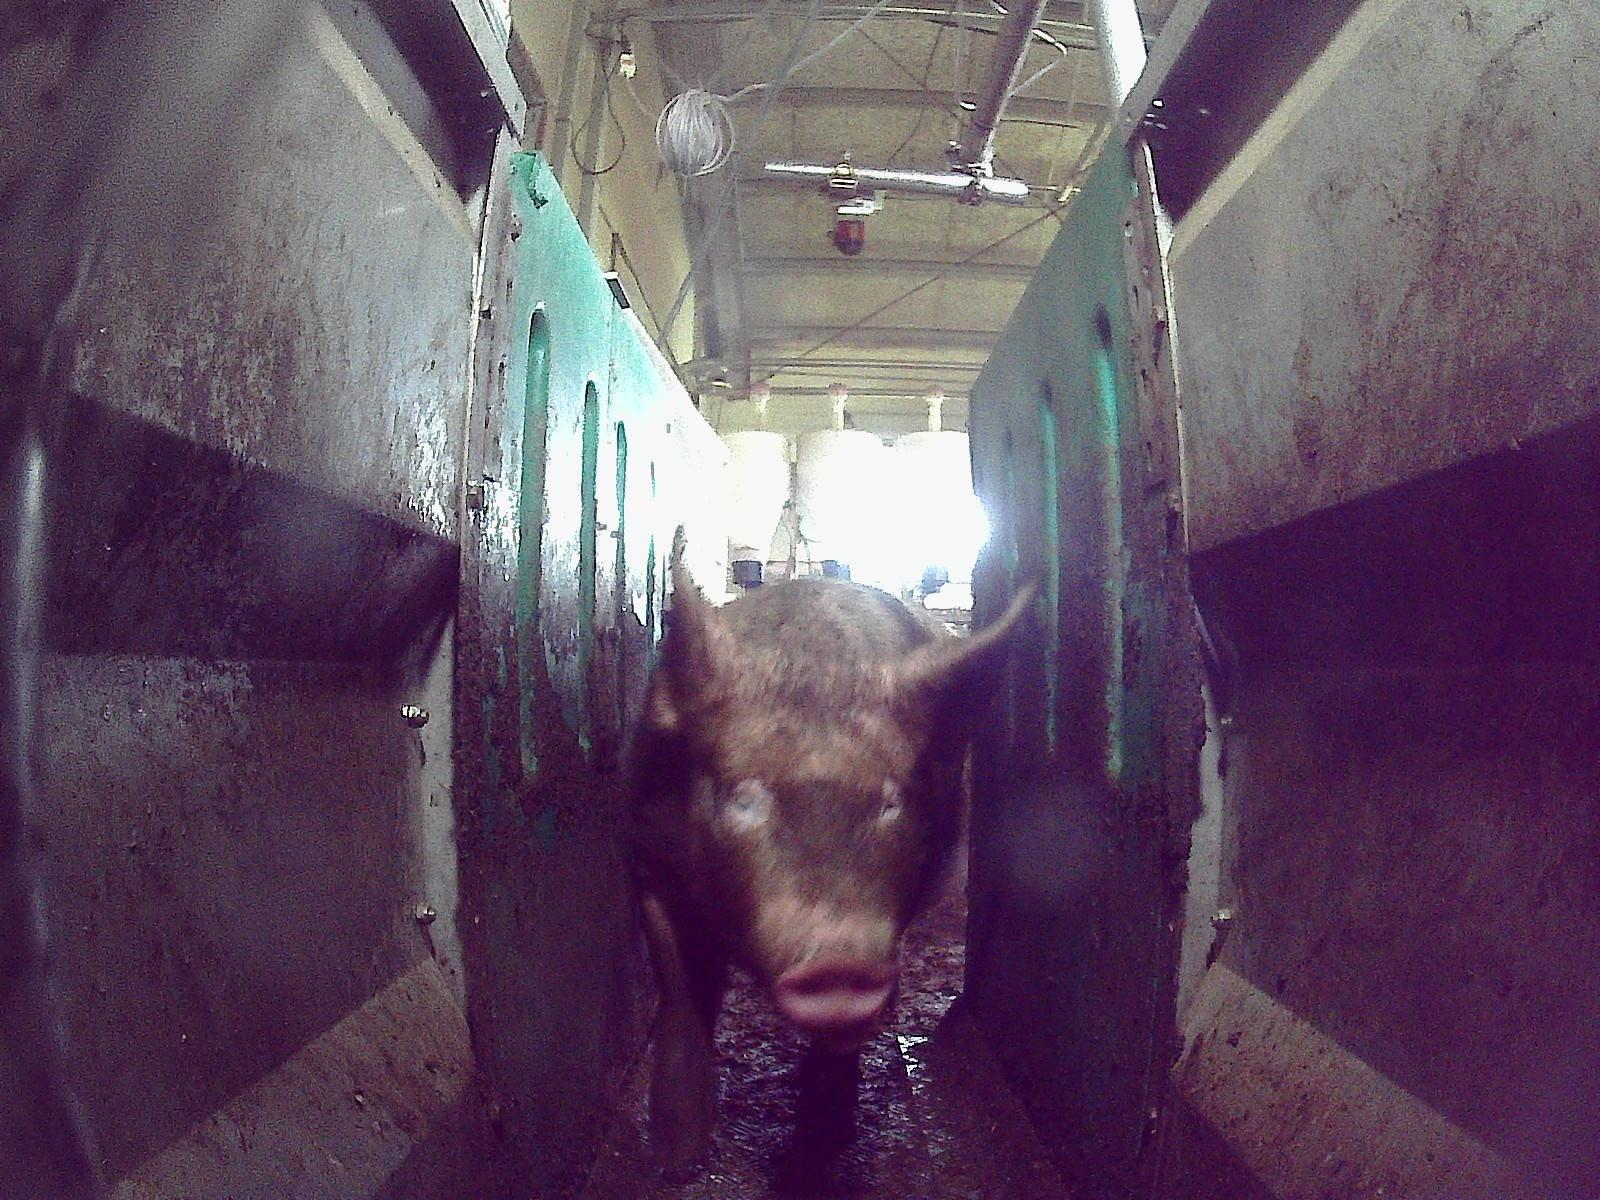Face: (692, 660, 933, 1020)
